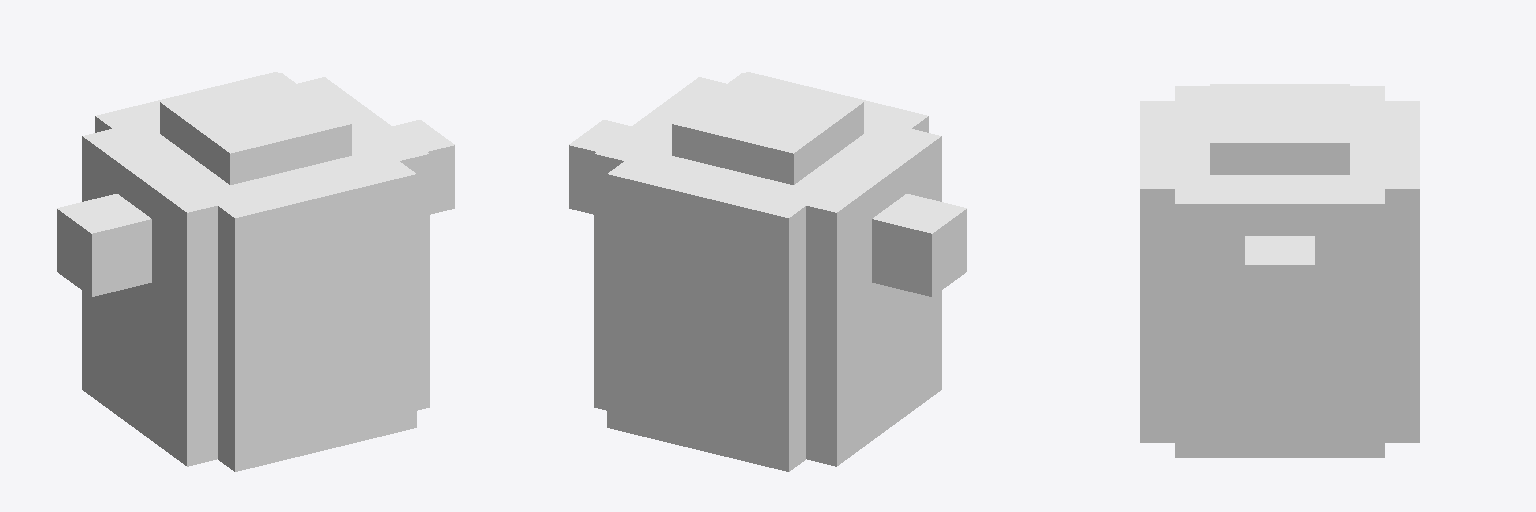
Rendered from AltonTorso.obj.
The picture shows the model from 3 angles: view 1: azimuth 30°, elevation 25°; view 2: azimuth 150°, elevation 25°; view 3: azimuth 270°, elevation 25°; orthographic projection.
Parts seen in each view (by area): view 1: object 1; view 2: object 1; view 3: object 1.
Boxes of the visible parts, box(x1,y1,x2,y2) form: object 1: box(57, 72, 454, 471); object 1: box(569, 72, 966, 471); object 1: box(1140, 84, 1419, 457).
Size of the model in its own units: 1.2 by 0.9 by 0.8.